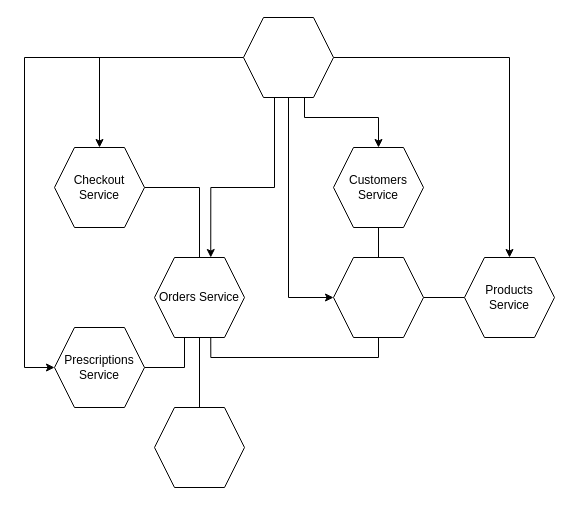
This 572x505 diagram has some shape labels left out. Each missing label, with the centre of its shape:
Deliveries Service: [199,447]
Gateway: [288,57]
Shopping Cart Service: [378,297]
